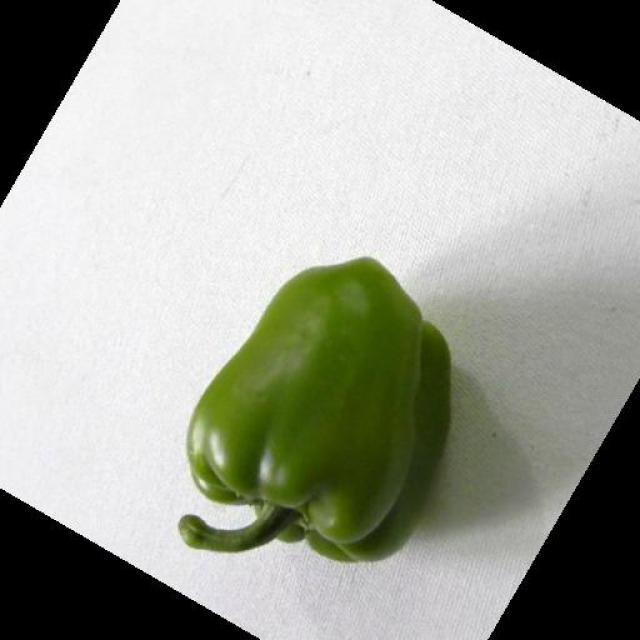Fresh_Capsicum: (188, 251, 500, 567)
